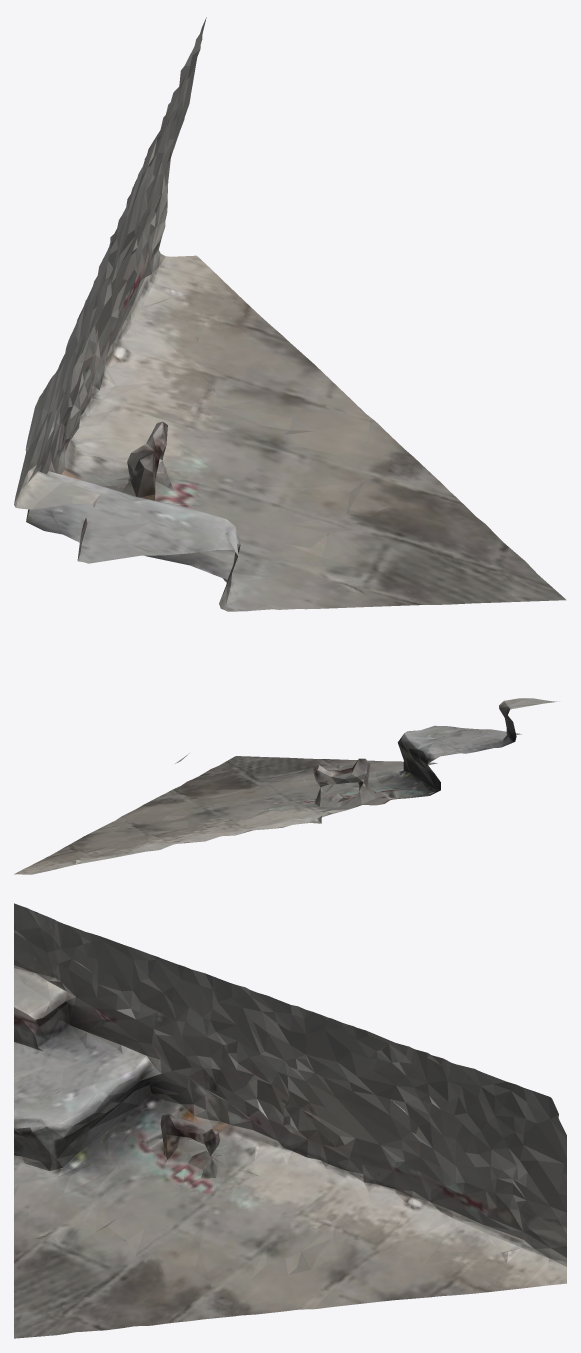
3 views of the same model, one above another, from view 1: azimuth 30°, elevation 25°; view 2: azimuth 150°, elevation 25°; view 3: azimuth 270°, elevation 25° (orthographic). The views are drawn at different scales.
Bounding box in the file's own units: 1.44 × 0.8068 × 1.67.
3 materials, 3 textured.
